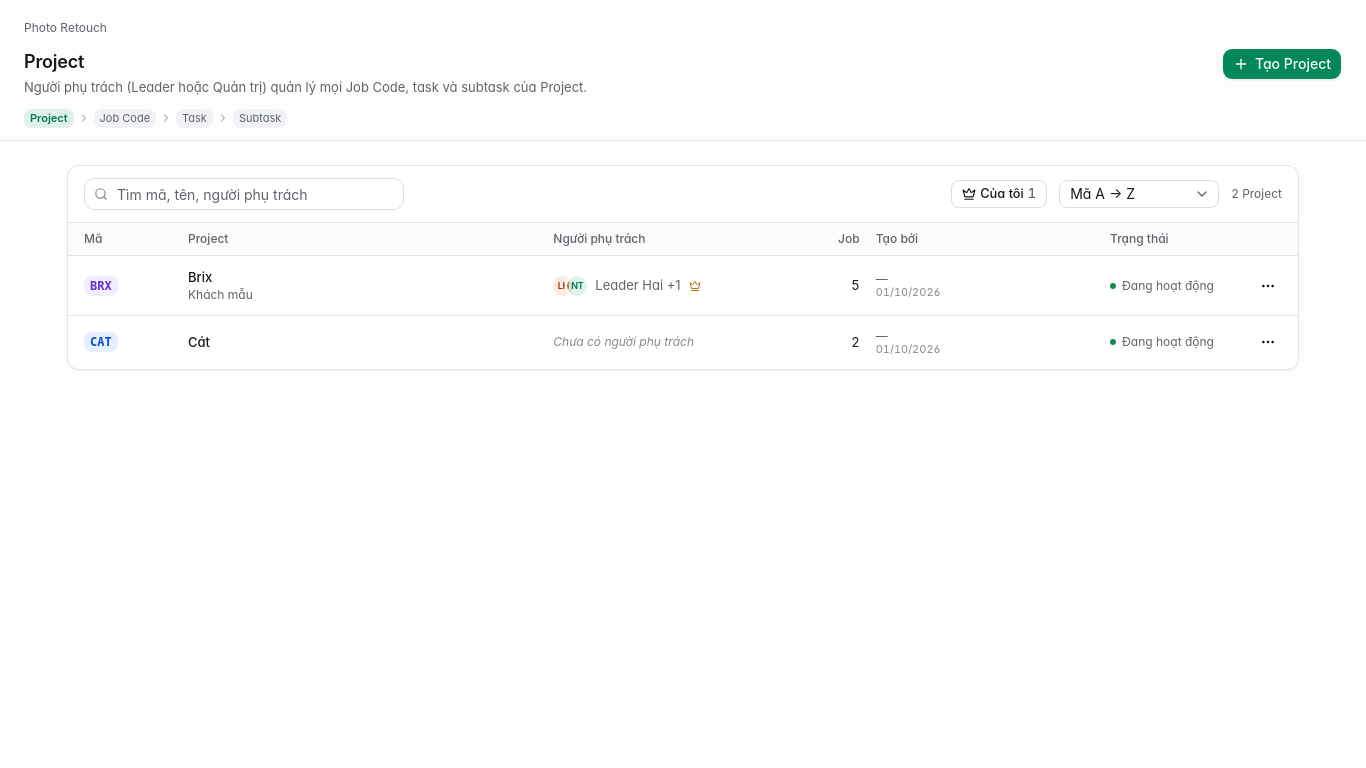
it: /production/projects (PD-078, PD-079) › an Admin: a Project with several owners shows them read-only; one without owner asks for one
Click the button "Brix Khách mẫu".
click(220, 294)  # box top-left (188, 268), bottom-right (537, 303)
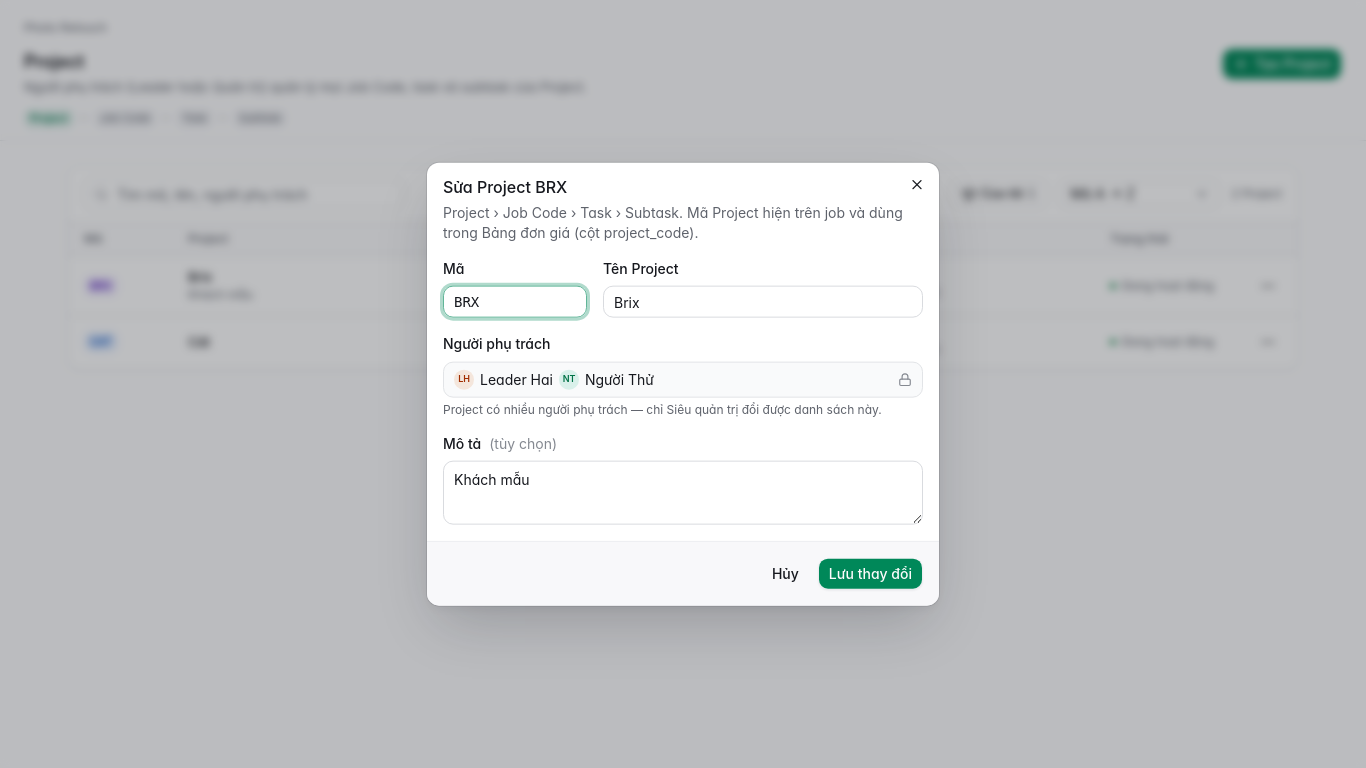
Now the text "Project có nhiều người phụ trách — chỉ Siêu quản trị đổi được danh sách này." is shown, box top-left (443, 401), bottom-right (923, 417)
Now the text "Leader Hai" is shown, box top-left (480, 369), bottom-right (553, 389)
Click the button "Hủy".
click(785, 573)  # box top-left (761, 557), bottom-right (810, 589)
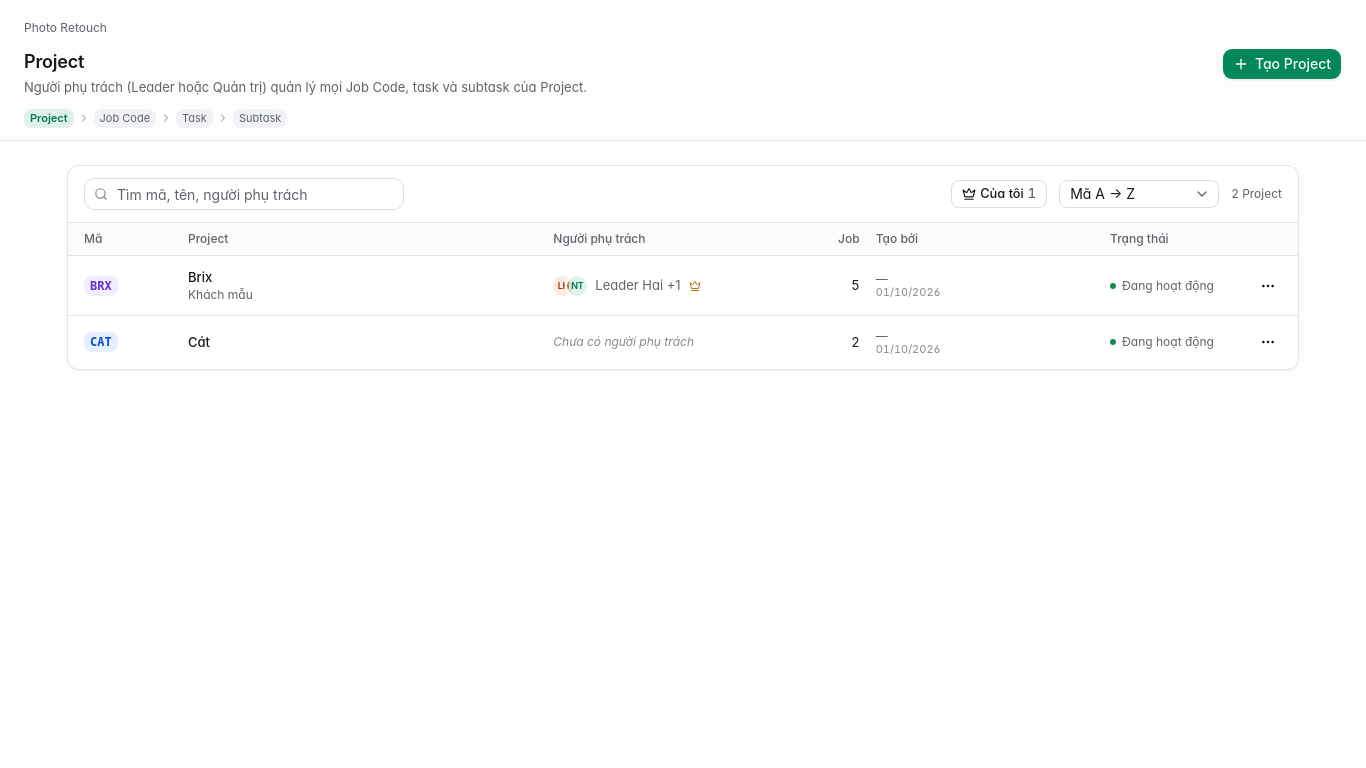
Click the button "Cát".
click(199, 342)  # box top-left (188, 328), bottom-right (537, 357)
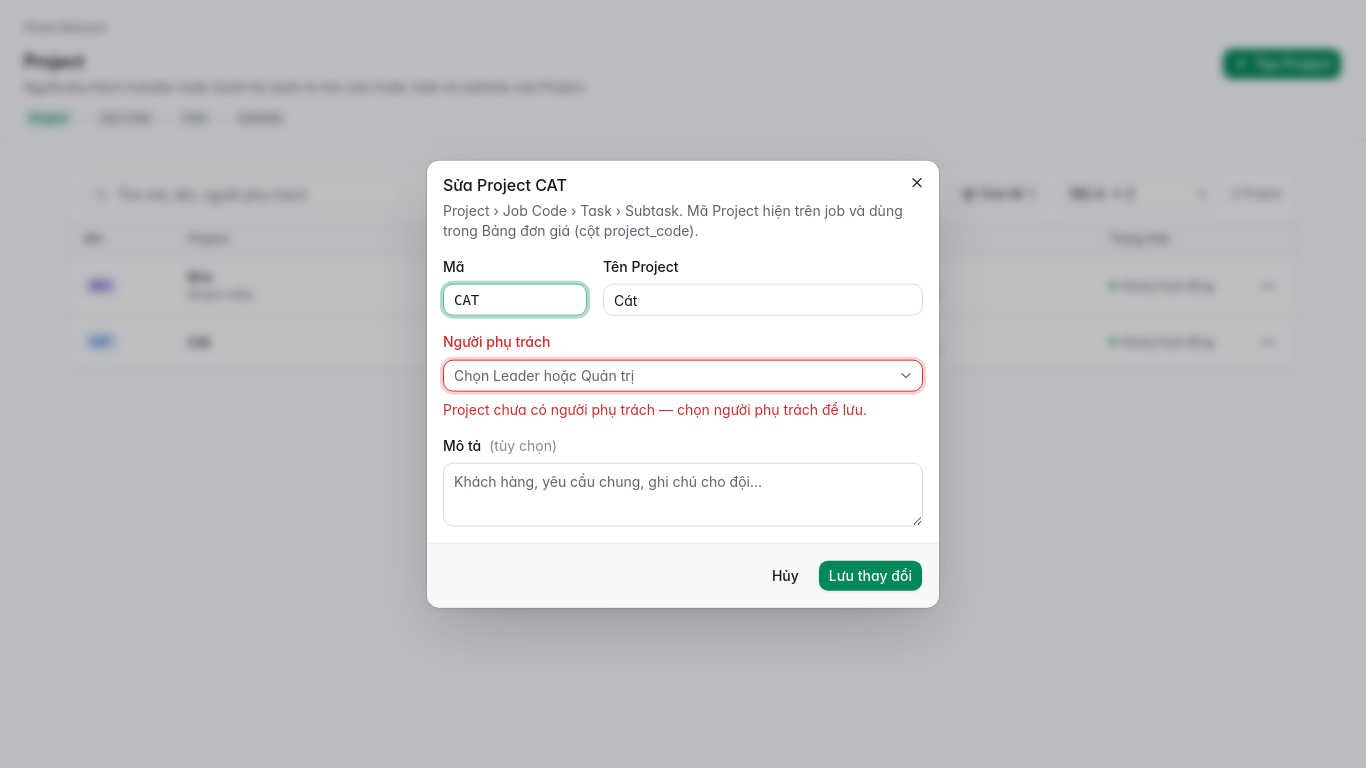
Now the text "Project chưa có người phụ trách — chọn người phụ trách để lưu." is shown, box top-left (443, 399), bottom-right (923, 419)
Now the dropdown named "Người phụ trách" is shown, box top-left (443, 359), bottom-right (923, 391)
